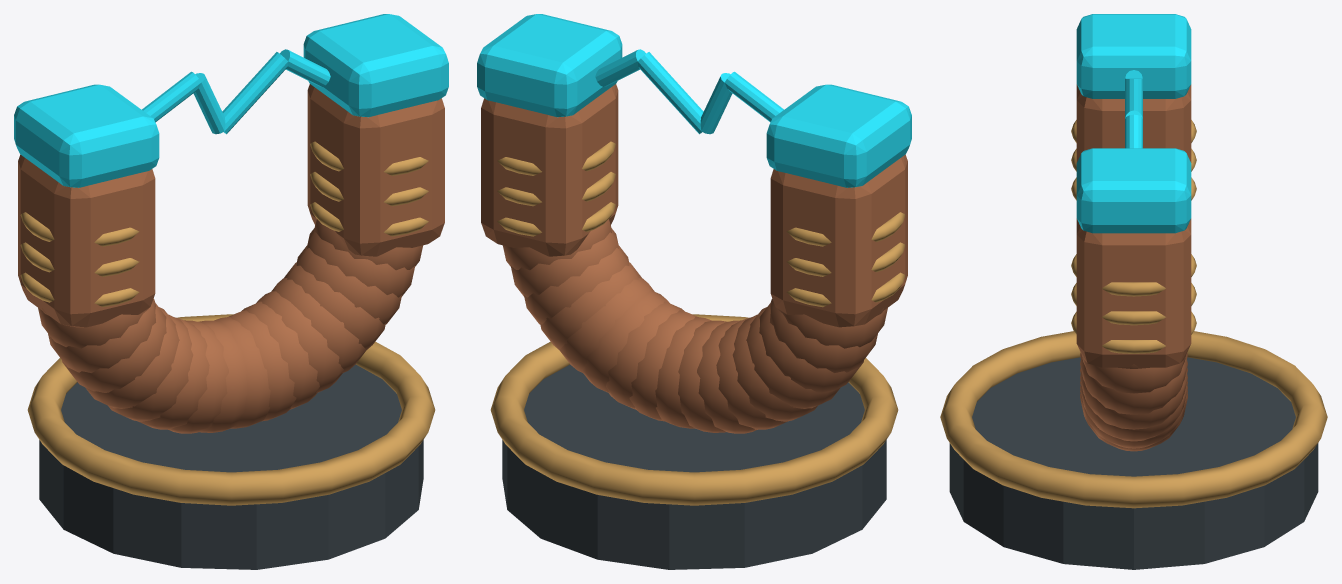
The model's file is magnet.glb.
3 renders of one model, left to right at view 1: azimuth 30°, elevation 25°; view 2: azimuth 150°, elevation 25°; view 3: azimuth 270°, elevation 25°, orthographic. The views are drawn at different scales.
Parts seen in each view (by area): view 1: SM_UpgradeMagnet; view 2: SM_UpgradeMagnet; view 3: SM_UpgradeMagnet.
Boxes of the visible parts, x1,y1,x2,y2 form: SM_UpgradeMagnet: [14, 14, 448, 569]; SM_UpgradeMagnet: [477, 14, 911, 569]; SM_UpgradeMagnet: [940, 14, 1327, 569].
Bounding box in the file's own units: 0.698 × 0.7025 × 0.61.
